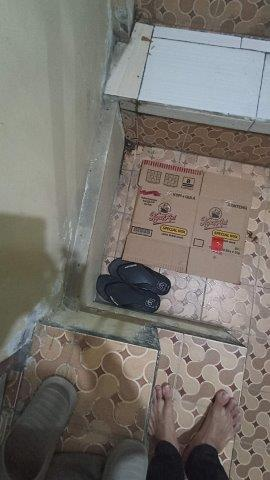kardus: (123, 161, 253, 284)
